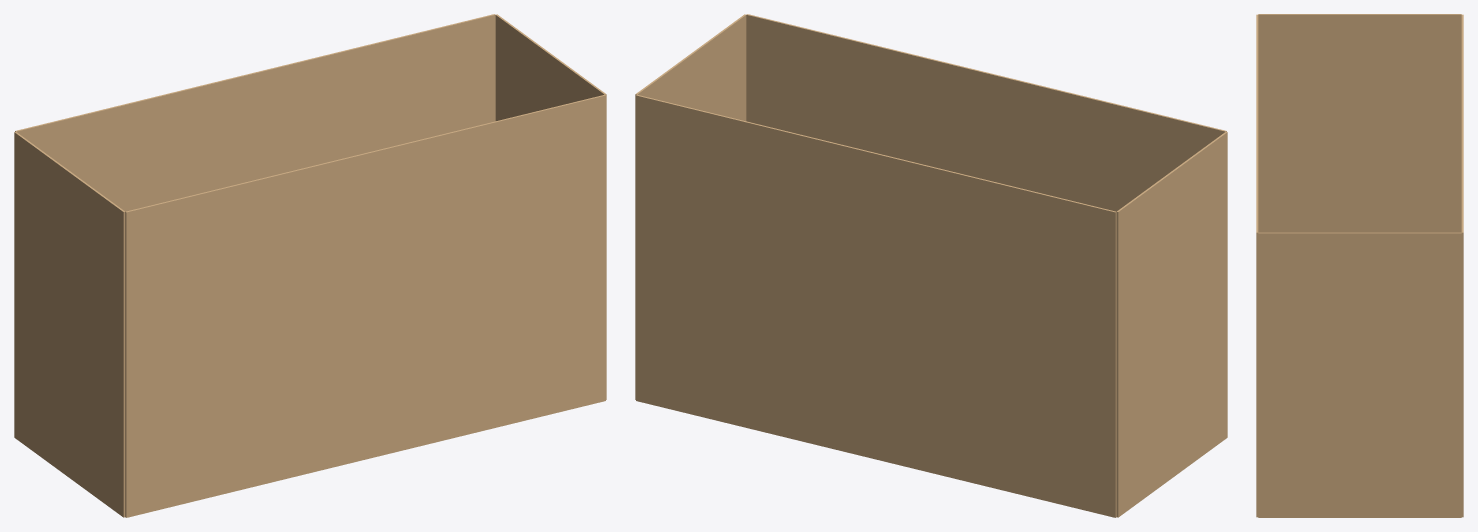
3 renders of one model, left to right at view 1: azimuth 30°, elevation 25°; view 2: azimuth 150°, elevation 25°; view 3: azimuth 270°, elevation 25°, orthographic. The views are drawn at different scales.
Parts seen in each view (by area): view 1: form_5; view 2: form_5; view 3: form_5.
Part boxes in pixels (x1,y1,x2,y2): form_5: (14,14,606,517); form_5: (635,14,1227,517); form_5: (1256,14,1463,517).
Size of the model in its own units: 13.4 by 8.1 by 5.35.
